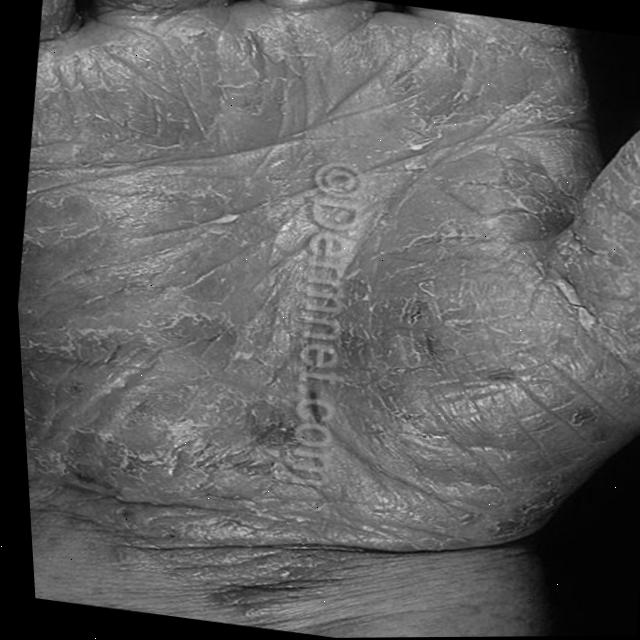Eczema: (5, 76, 616, 552)
